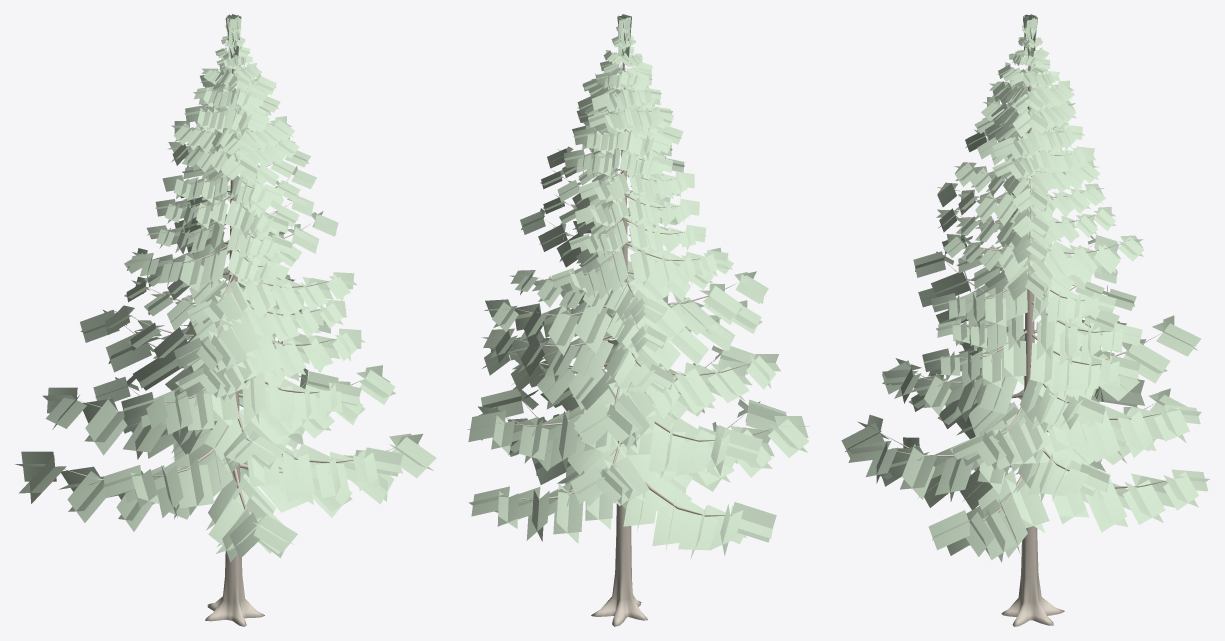
File: tree-3.gltf
3 renders of one model, left to right at view 1: azimuth 30°, elevation 25°; view 2: azimuth 150°, elevation 25°; view 3: azimuth 270°, elevation 25°, orthographic.
Visible parts, largest first — view 1: TerraWeave Arbor; view 2: TerraWeave Arbor; view 3: TerraWeave Arbor.
Part boxes in pixels (x1,y1,x2,y2): TerraWeave Arbor: (15,14,436,626); TerraWeave Arbor: (467,14,809,626); TerraWeave Arbor: (841,14,1209,626).
Bounding box in the file's own units: 12.29 × 20.16 × 11.28.
